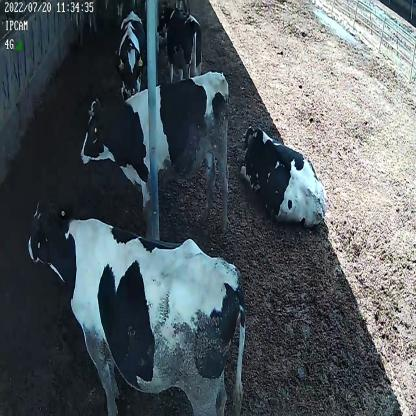cow: (27, 189, 247, 416), (80, 71, 232, 239), (238, 122, 329, 232), (162, 2, 202, 79), (116, 10, 146, 100)
